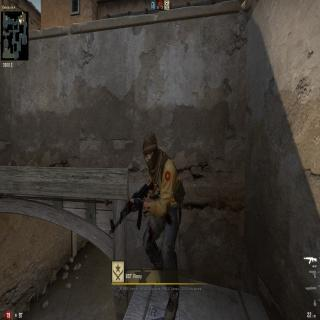T-Head: (141, 130, 160, 170)
